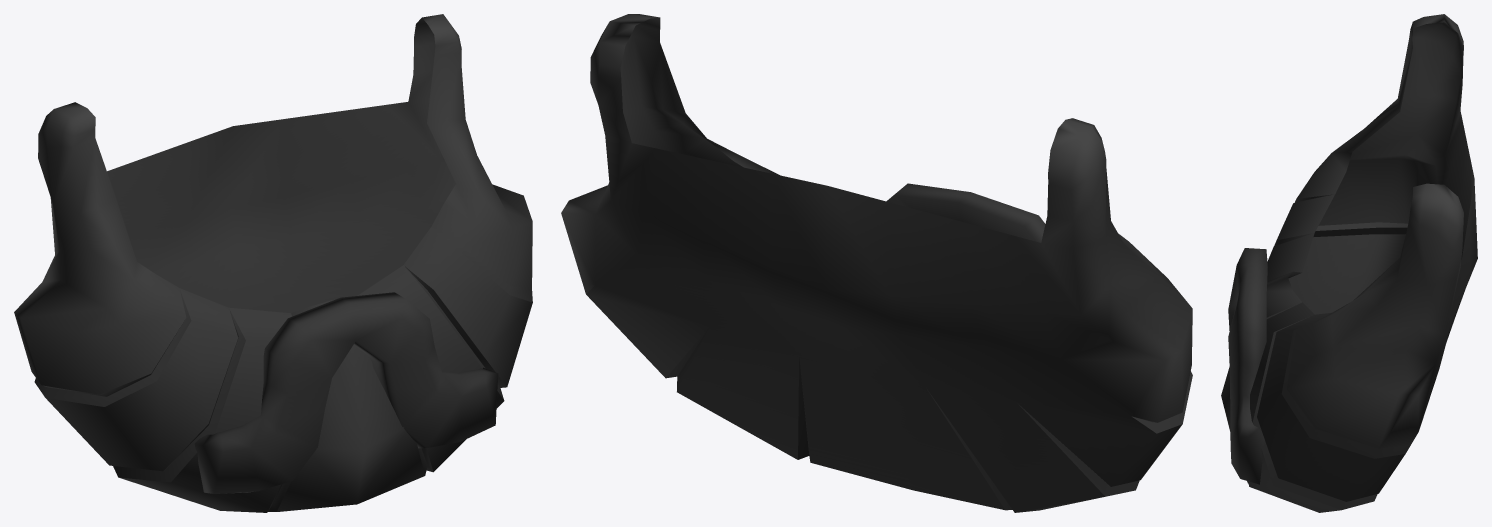
File: Beard_Black_17.fbx
3 renders of one model, left to right at view 1: azimuth 30°, elevation 25°; view 2: azimuth 150°, elevation 25°; view 3: azimuth 270°, elevation 25°, orthographic. The views are drawn at different scales.
Visible parts, largest first — view 1: Beard_Black_17; view 2: Beard_Black_17; view 3: Beard_Black_17.
Boxes of the visible parts, <box> form: Beard_Black_17: <box>14,14,532,512</box>; Beard_Black_17: <box>561,14,1192,512</box>; Beard_Black_17: <box>1221,14,1477,512</box>.
Size of the model in its own units: 64.08 by 47.7 by 29.49.
